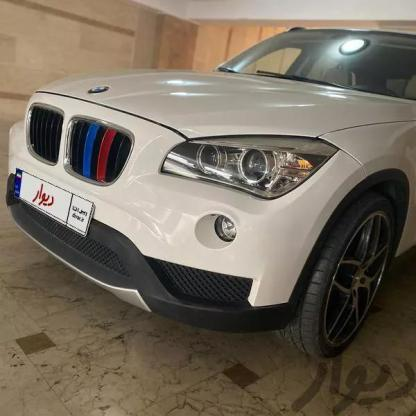Car: (0, 0, 416, 386)
